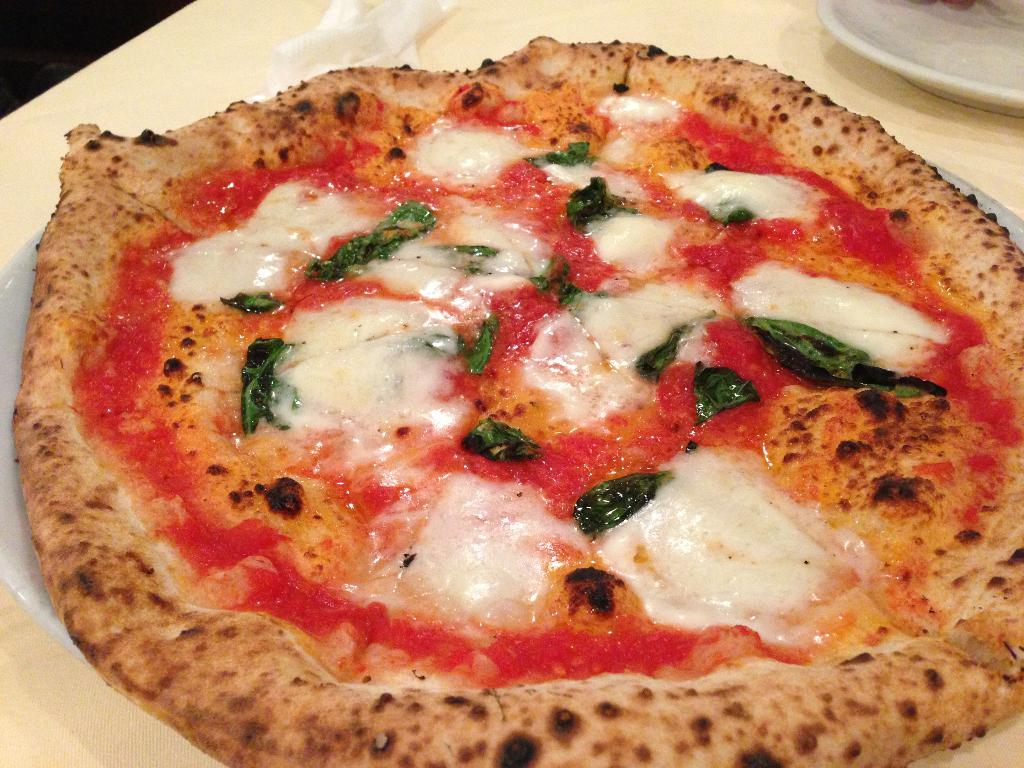Pizza: (7, 32, 1023, 767)
